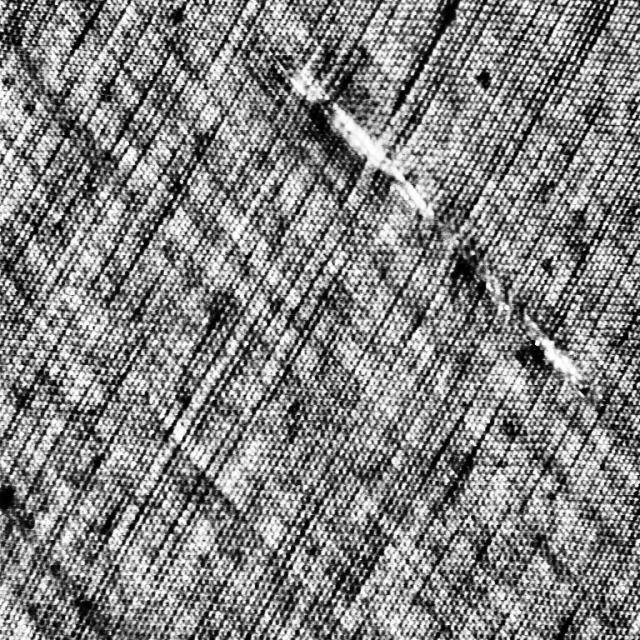gray stitch: (271, 53, 583, 383)
